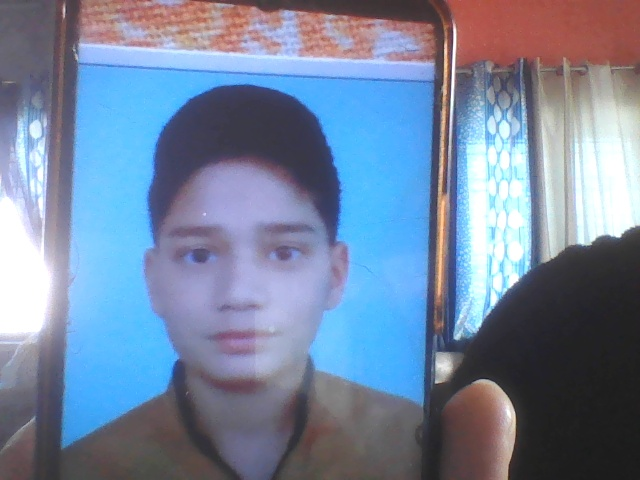fake: (130, 89, 358, 412)
